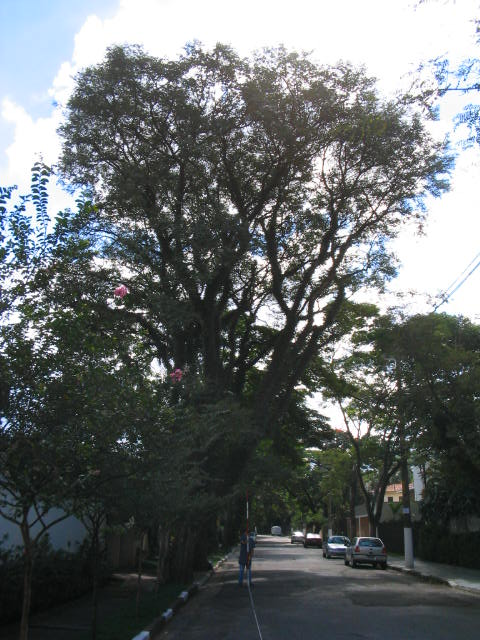crown: (58, 34, 454, 310)
stem: (147, 526, 202, 589)
stick: (240, 490, 254, 588)
tree: (56, 33, 456, 591)
